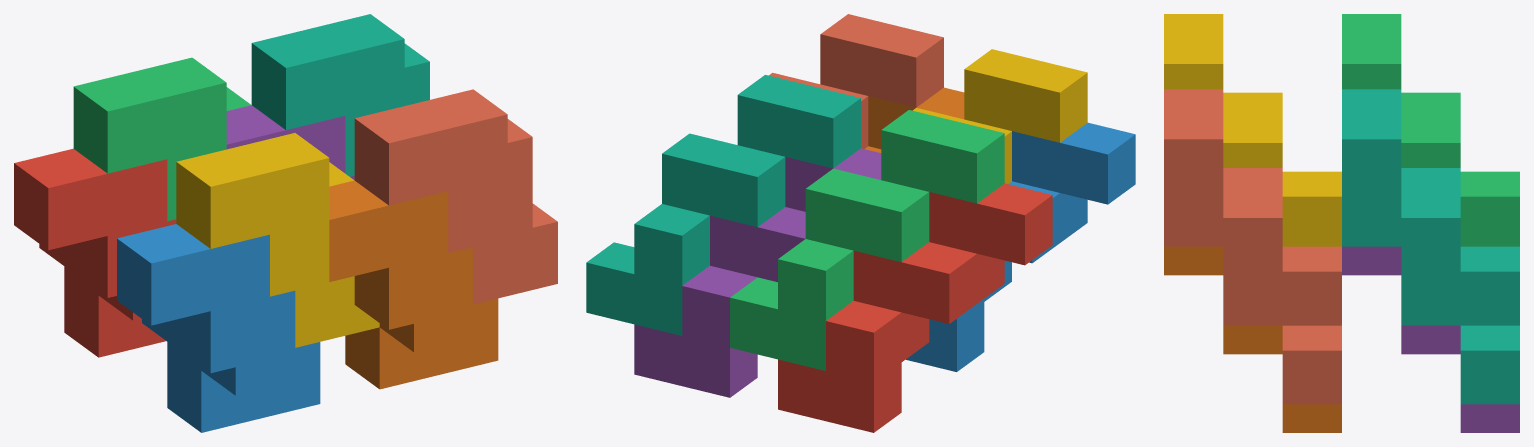
File: tiling.obj
3 views of the same model, side by side, from view 1: azimuth 30°, elevation 25°; view 2: azimuth 150°, elevation 25°; view 3: azimuth 270°, elevation 25° (orthographic). The views are drawn at different scales.
Parts seen in each view (by area): view 1: copy_1_domain_2, copy_1_domain_8, copy_1_domain_6, copy_1_domain_4, copy_1_domain_1, copy_1_domain_7, copy_1_domain_3, copy_1_domain_5; view 2: copy_1_domain_3, copy_1_domain_7, copy_1_domain_1, copy_1_domain_5, copy_1_domain_2, copy_1_domain_4, copy_1_domain_8, copy_1_domain_6; view 3: copy_1_domain_7, copy_1_domain_8, copy_1_domain_3, copy_1_domain_4, copy_1_domain_5, copy_1_domain_6.
Boxes of the visible parts, x1,y1,x2,y2 form: copy_1_domain_2: (117, 224, 320, 432); copy_1_domain_8: (354, 89, 557, 304); copy_1_domain_6: (329, 180, 498, 389); copy_1_domain_4: (176, 133, 379, 347); copy_1_domain_1: (14, 148, 176, 357); copy_1_domain_7: (251, 14, 429, 176); copy_1_domain_3: (73, 57, 251, 221); copy_1_domain_5: (226, 105, 354, 179); copy_1_domain_3: (730, 110, 1004, 370); copy_1_domain_7: (586, 75, 860, 335); copy_1_domain_1: (778, 183, 1052, 432); copy_1_domain_5: (634, 148, 881, 397); copy_1_domain_2: (906, 122, 1135, 371); copy_1_domain_4: (913, 49, 1087, 183); copy_1_domain_8: (769, 14, 943, 148); copy_1_domain_6: (865, 87, 964, 152); copy_1_domain_7: (1342, 89, 1519, 404); copy_1_domain_8: (1164, 89, 1341, 404); copy_1_domain_3: (1342, 14, 1519, 246); copy_1_domain_4: (1164, 14, 1341, 246); copy_1_domain_5: (1342, 246, 1519, 432); copy_1_domain_6: (1164, 246, 1341, 432).
Size of the model in its own units: 8 by 5 by 6.
